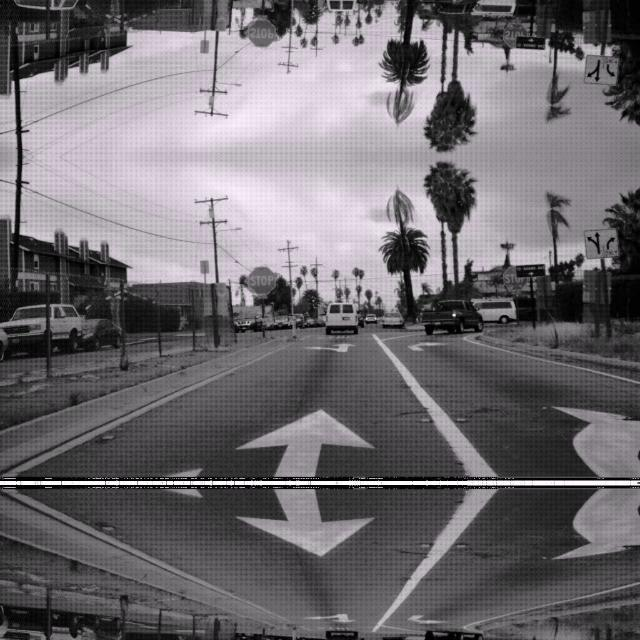stop: (247, 264, 275, 294), (247, 18, 275, 48), (502, 264, 528, 288), (502, 24, 528, 48)
